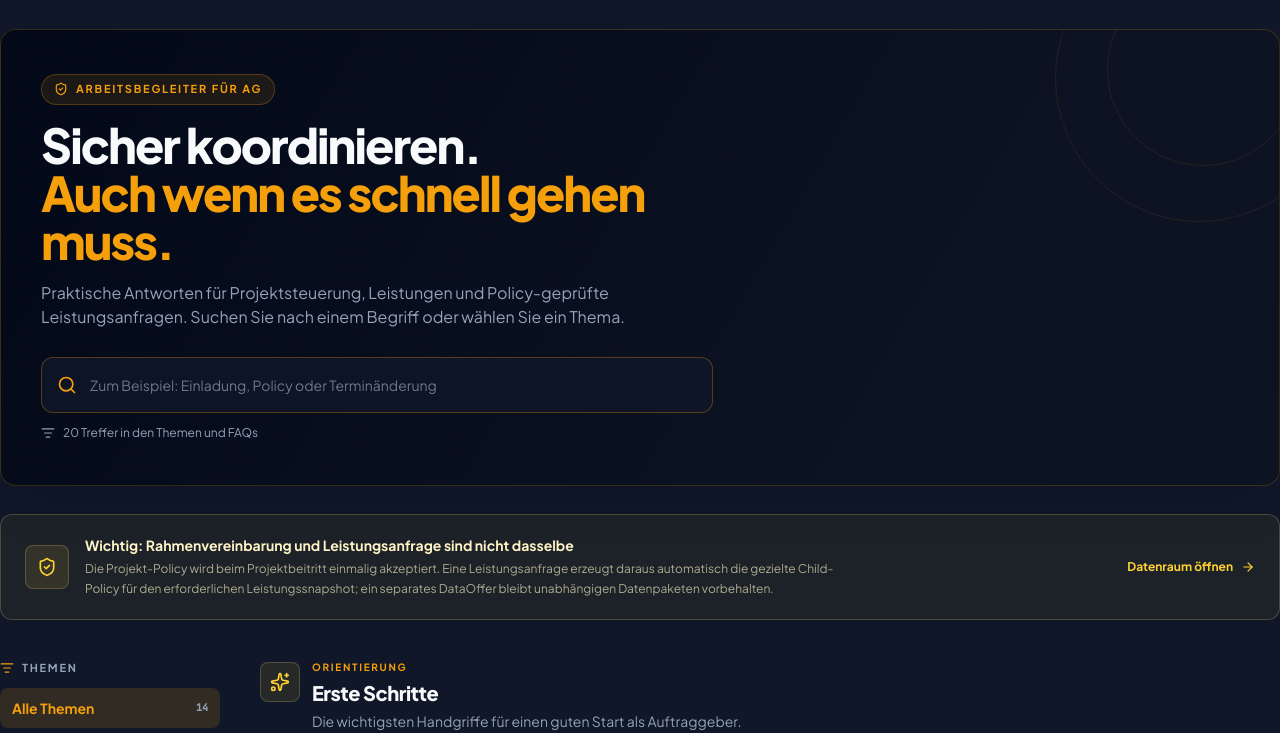
AG-Hilfe › erklärt DataOffers als unabhängige Datenpakete
In the field with test id "input-help-search": (377, 384) [41, 356, 713, 412], type "DataOffer"
(page scrolled)
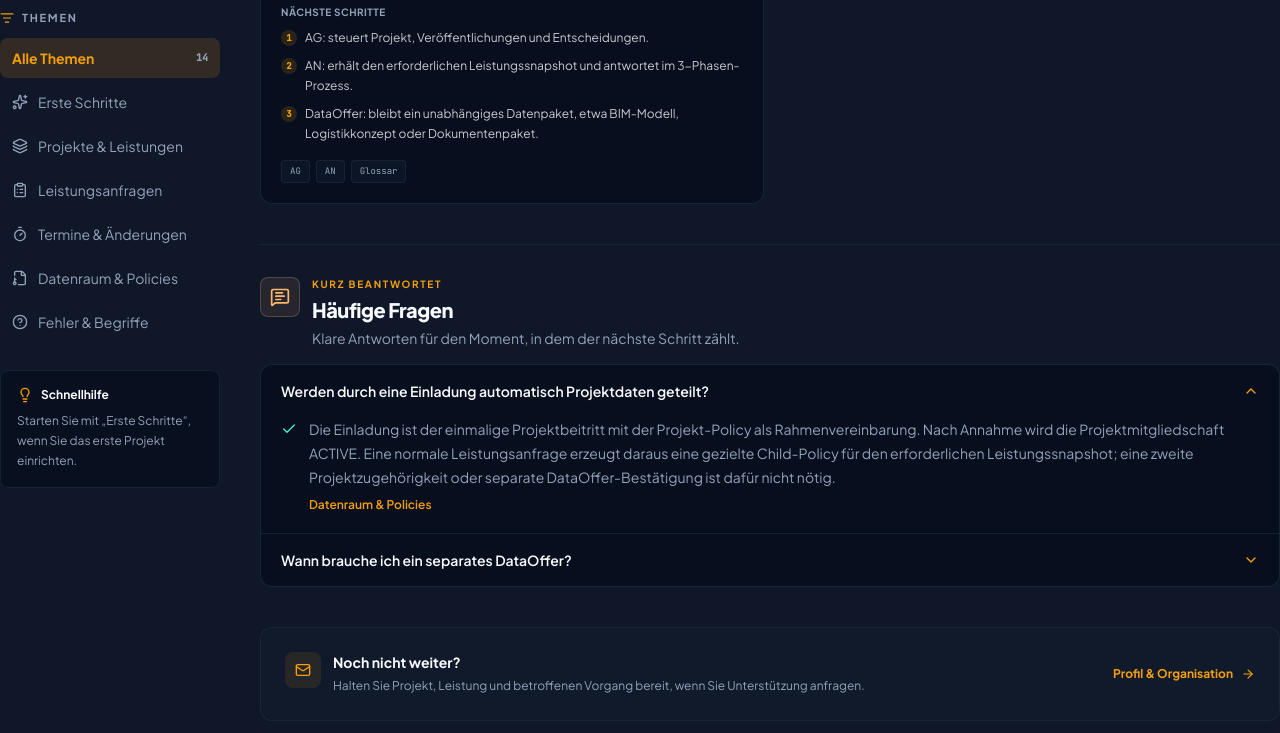
Click the button with test id "button-faq-faq-data-offer": (426, 560) [261, 534, 1279, 586]
(page scrolled)
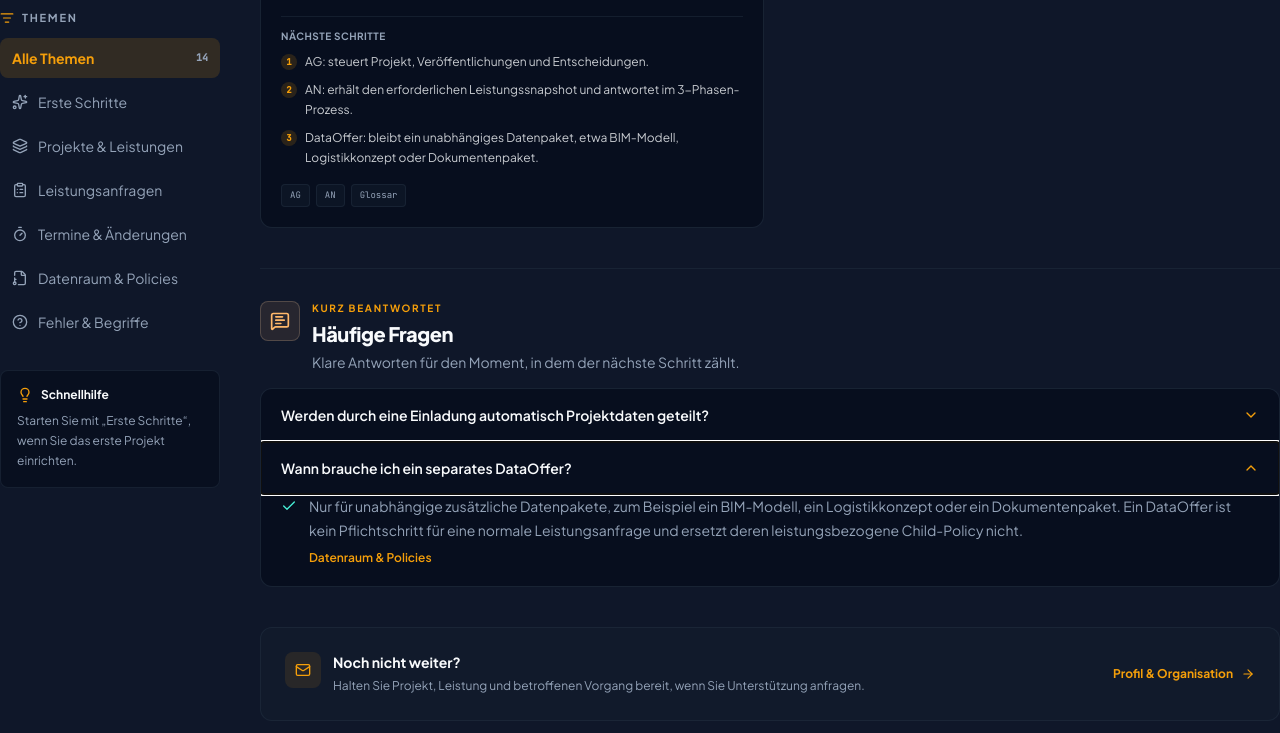
Expected: the element with test id "answer-faq-faq-data-offer" shows "BIM-Modell", [309, 497, 1231, 539]
